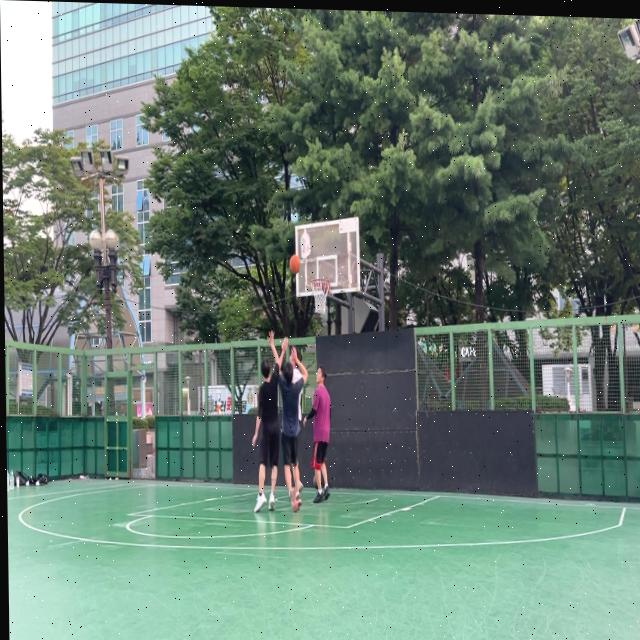basketball: (289, 254, 300, 274), (313, 475, 318, 489)
hoop: (310, 278, 331, 315)
